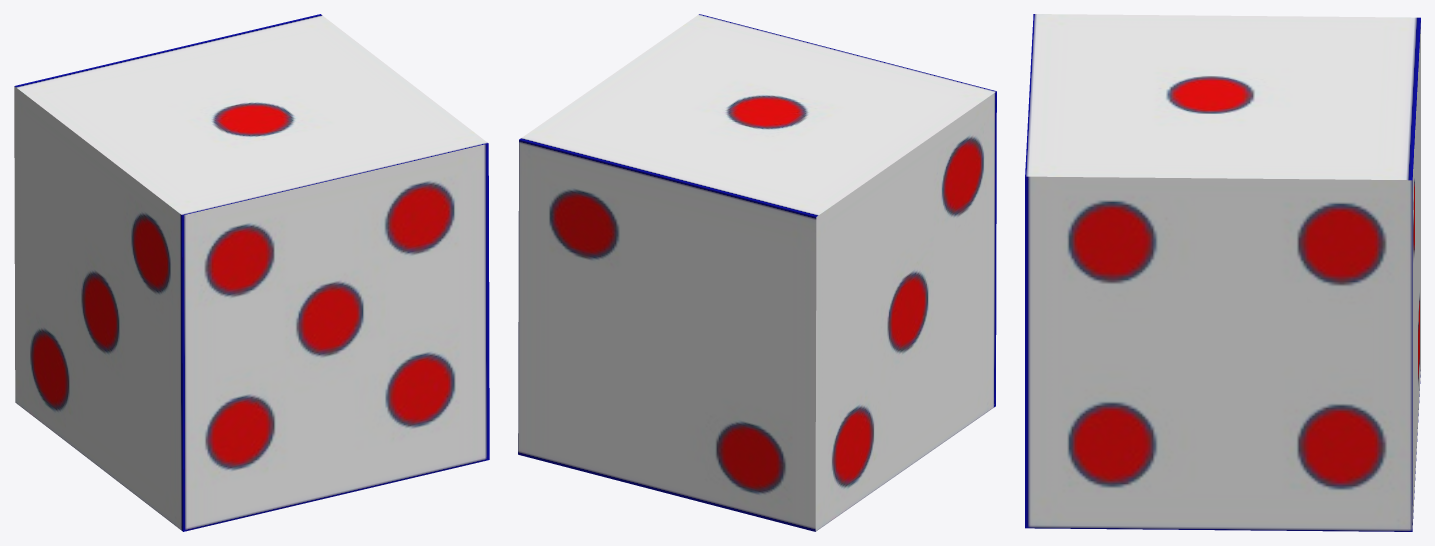
File: Dice6.fbx
3 views of the same model, side by side, from view 1: azimuth 30°, elevation 25°; view 2: azimuth 150°, elevation 25°; view 3: azimuth 270°, elevation 25° (orthographic). The views are drawn at different scales.
Parts seen in each view (by area): view 1: dice1; view 2: dice1; view 3: dice1.
Part boxes in pixels (box(x1,y1,x2,y2)): dice1: box(14, 14, 489, 531); dice1: box(518, 14, 996, 531); dice1: box(1025, 14, 1420, 531).
Bounding box in the file's own units: 1.02 × 1 × 1.02.
